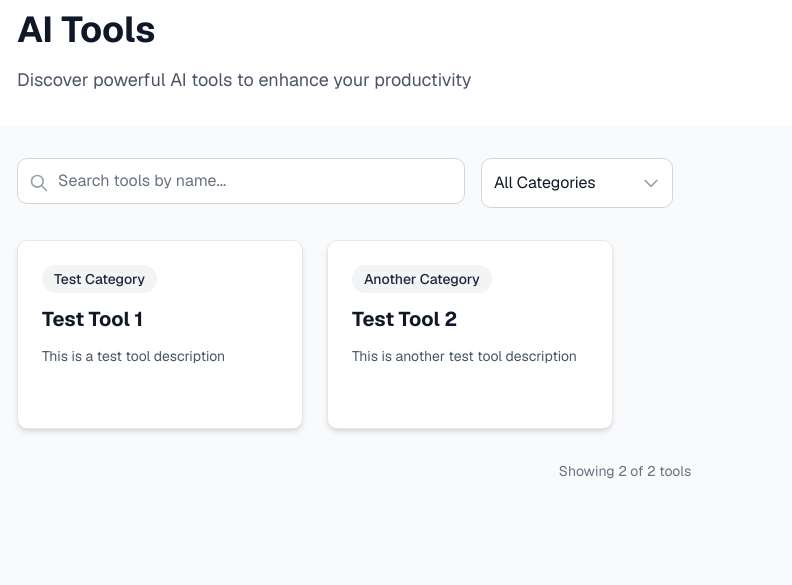
ToolsPage › displays empty state when no tools match search
Expected: the link "Test Tool 1" is shown, left=42, top=306, right=143, bottom=332
Type "Nonexistent Tool" into the field with placeholder "Search tools by name..." at (241, 181), box left=17, top=158, right=465, bottom=204
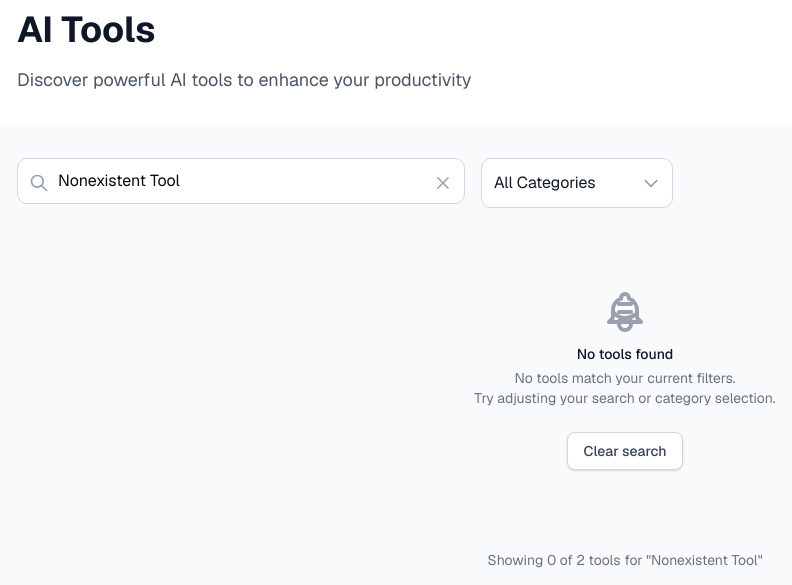
Expected: the heading "No tools found" is shown, left=577, top=345, right=673, bottom=363
Expected: the text "No tools match your current filters" is shown, left=514, top=369, right=736, bottom=387
Expected: the text "Try adjusting your search or category selection" is shown, left=474, top=389, right=776, bottom=407
